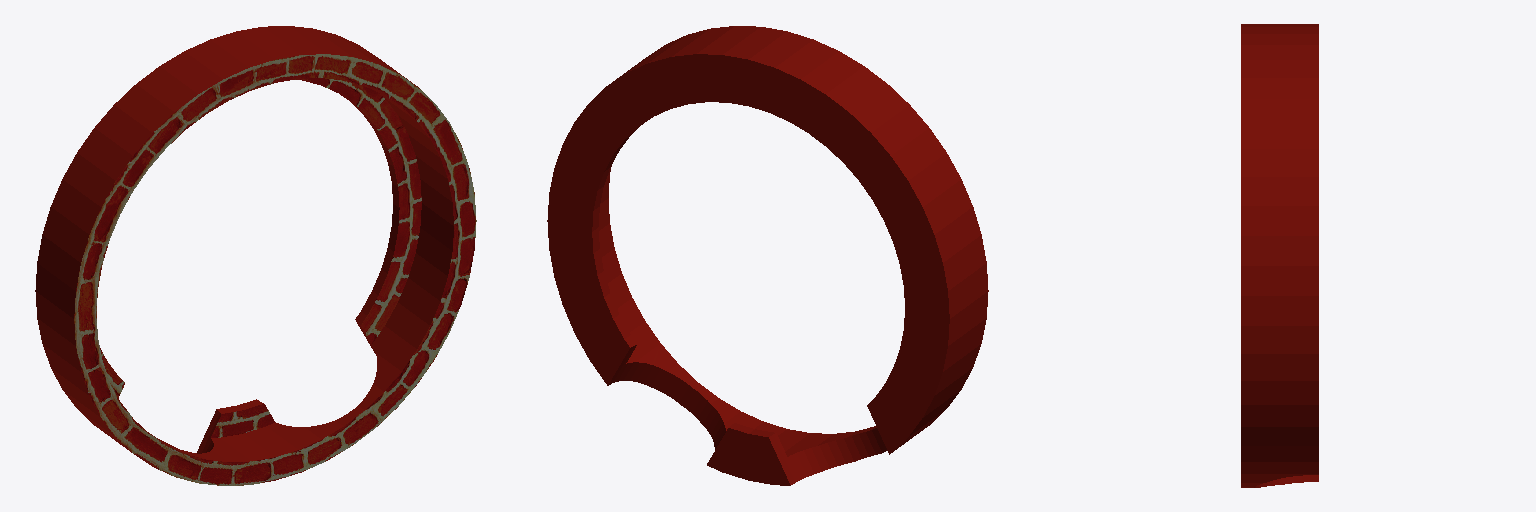
3 renders of one model, left to right at view 1: azimuth 30°, elevation 25°; view 2: azimuth 150°, elevation 25°; view 3: azimuth 270°, elevation 25°, orthographic.
Size of the model in its own units: 18 by 18 by 3.
1 materials, 1 textured.